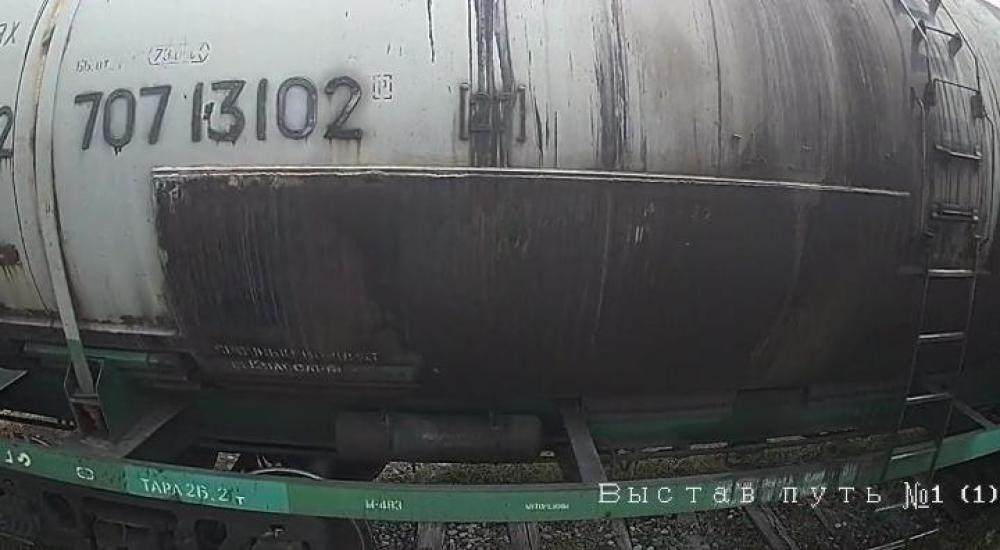Wagon-number: (72, 71, 370, 155)
